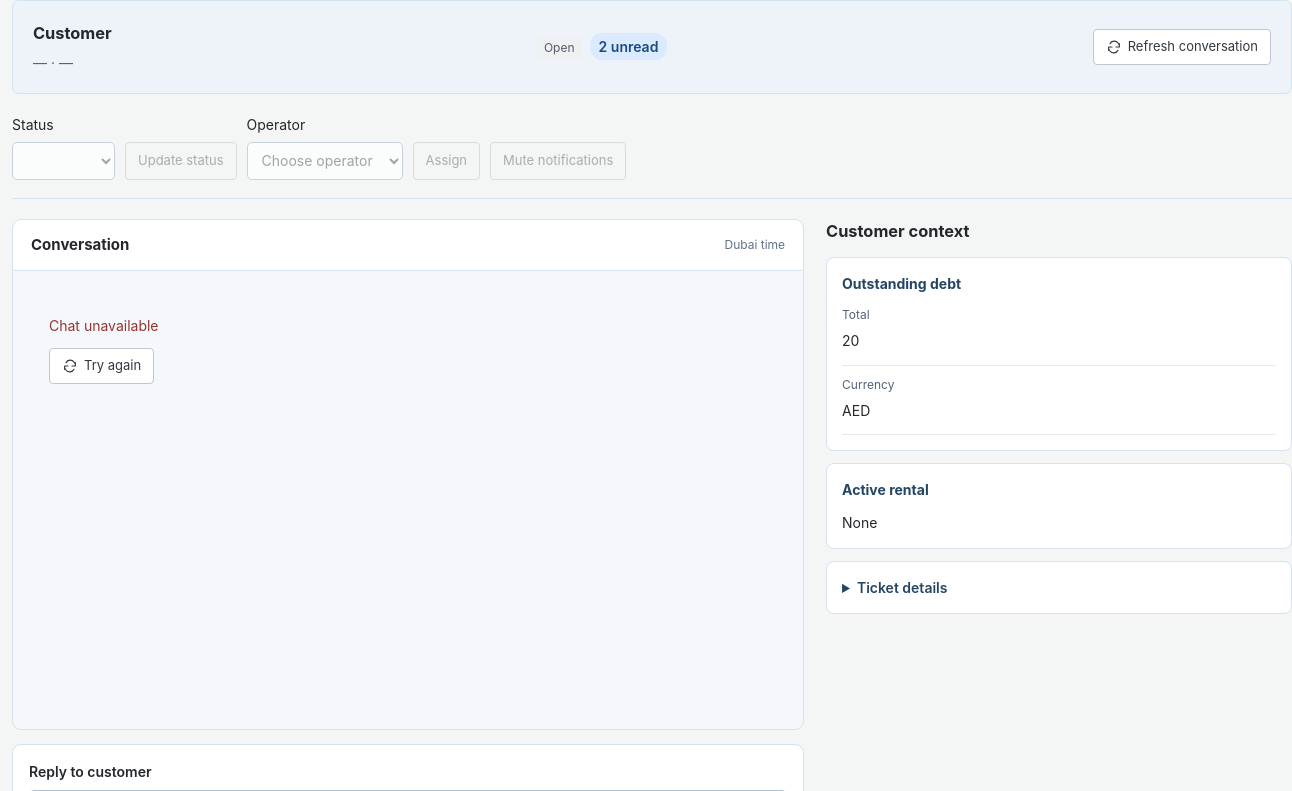
keeps context usable when messages fail and supports retry
Expected: the text "Chat unavailable" is shown, [49, 317, 158, 334]
Expected: the heading "Outstanding debt" is shown, [842, 275, 961, 292]
Click the button "Try again" at (102, 366), box [49, 348, 154, 384]
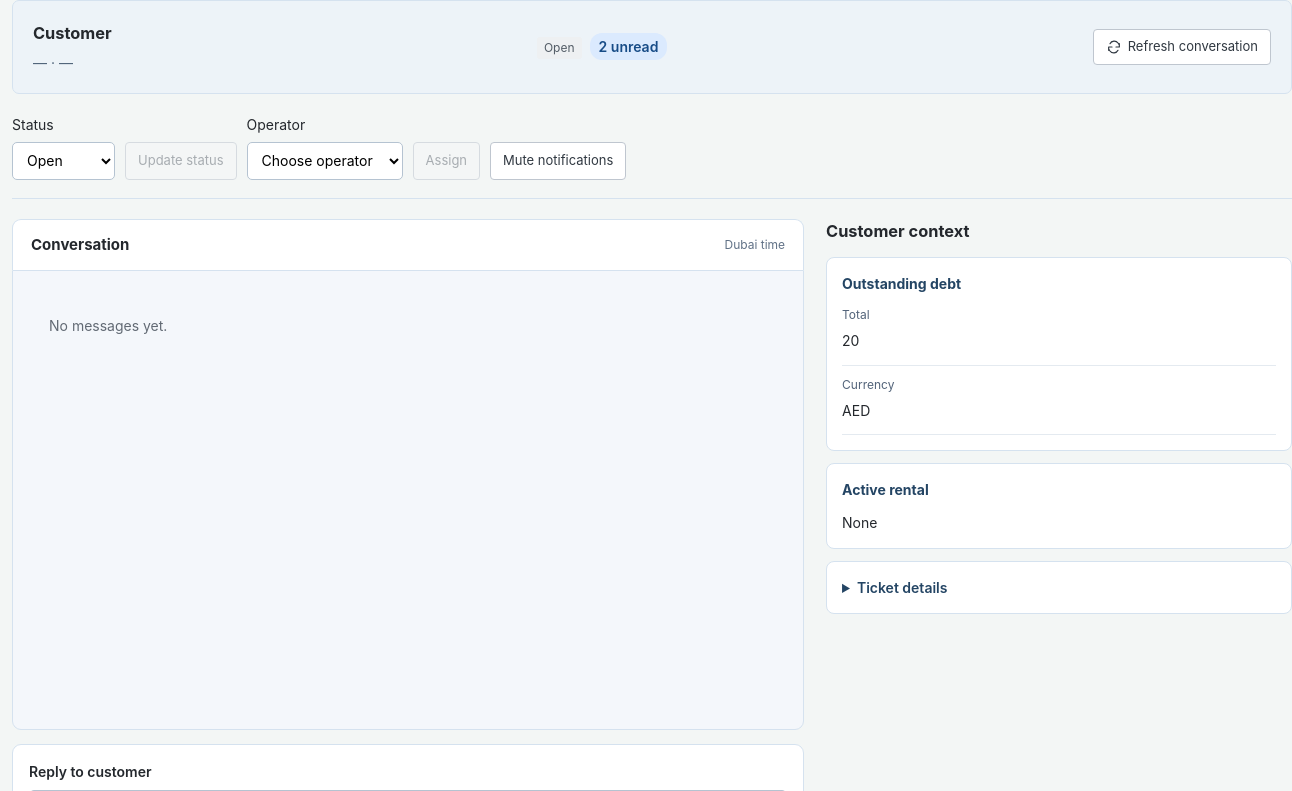
Expected: the text "No messages yet." is shown, [49, 317, 167, 334]
